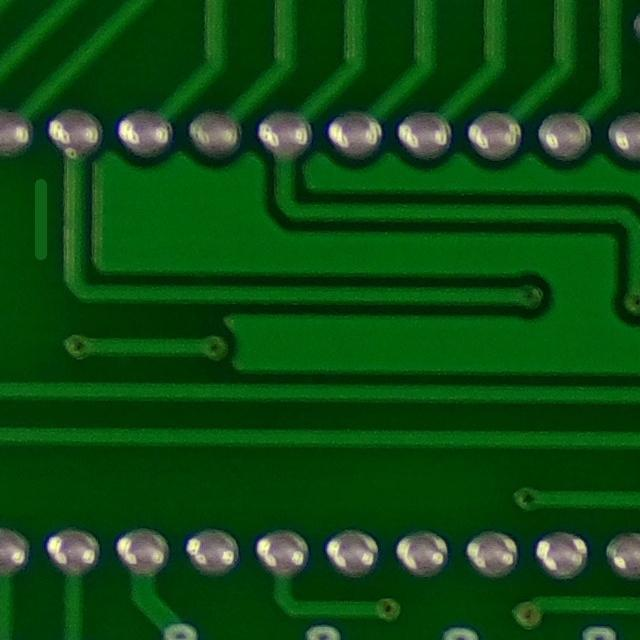spurious_copper: (12, 162, 65, 270)
